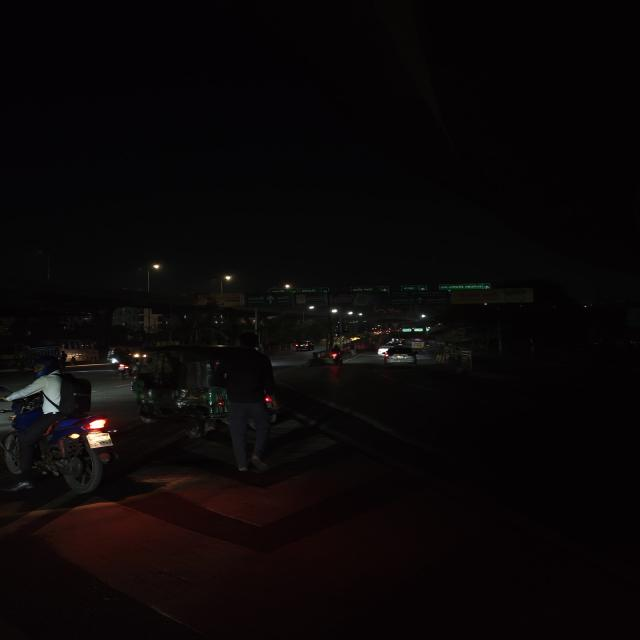car: (382, 344, 419, 366)
cng: (131, 344, 221, 439)
motorcycle: (324, 346, 346, 366)
pedestrian: (213, 338, 281, 480)
rickshaw: (0, 350, 123, 499)
